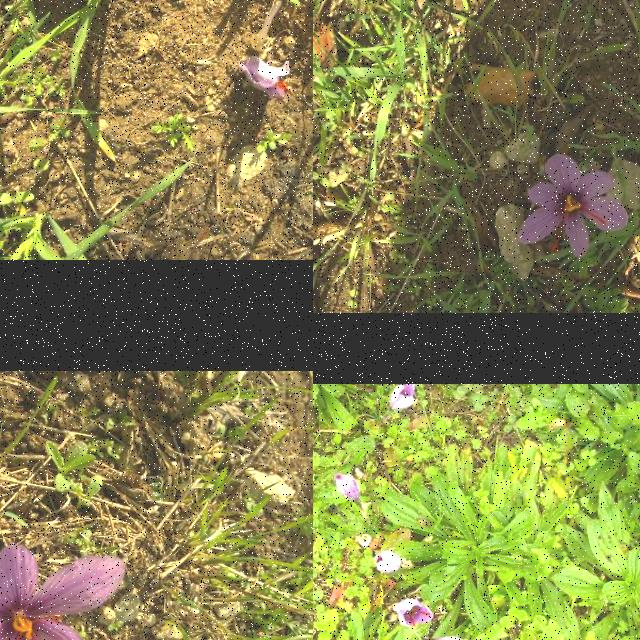flower: (0, 544, 126, 640), (517, 154, 629, 258), (238, 56, 290, 100), (390, 598, 434, 628), (389, 384, 415, 412), (372, 550, 402, 574), (336, 474, 360, 504)
